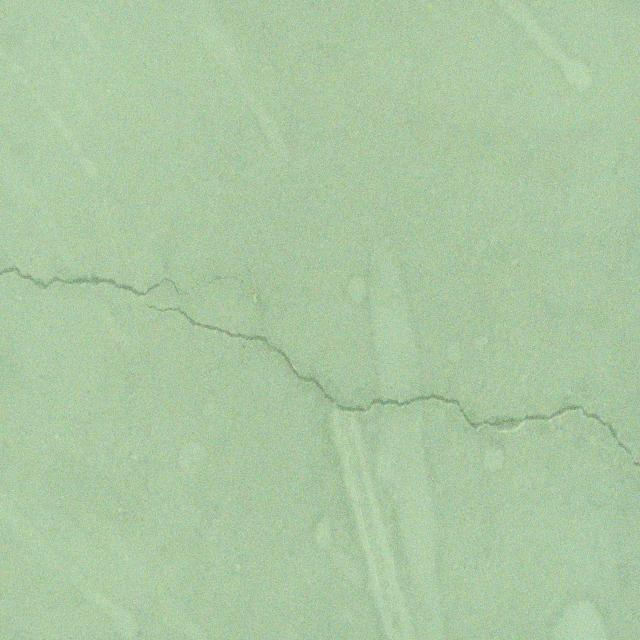crack: (0, 262, 640, 468)
